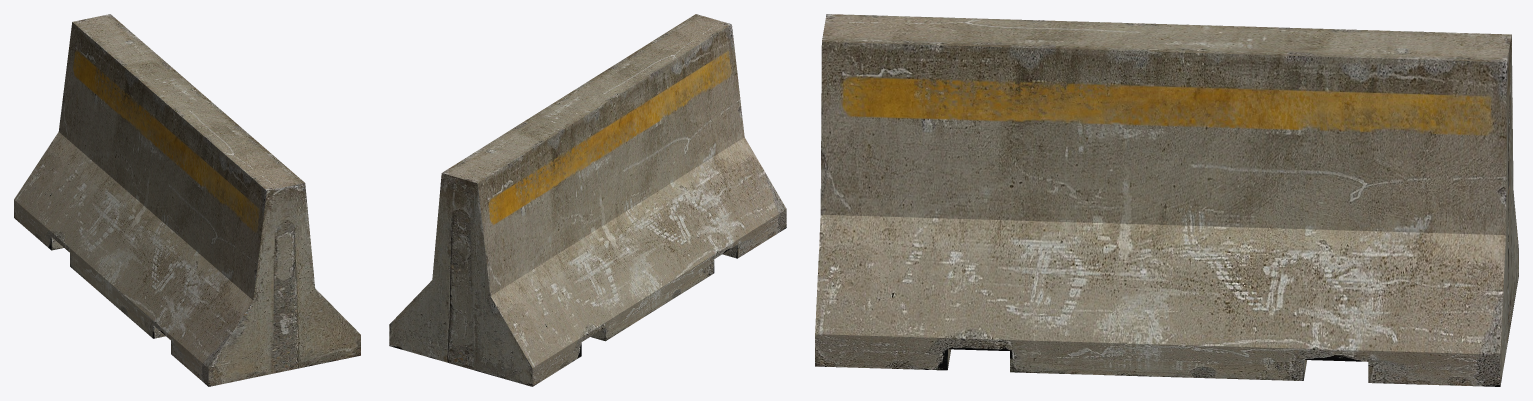
Rendered from Road_block_v1 (5).glb.
3 views of the same model, side by side, from view 1: azimuth 30°, elevation 25°; view 2: azimuth 150°, elevation 25°; view 3: azimuth 270°, elevation 25° (orthographic). The views are drawn at different scales.
Parts seen in each view (by area): view 1: Road_block_v1 (5); view 2: Road_block_v1 (5); view 3: Road_block_v1 (5).
Boxes of the visible parts, bbox=[...] form: Road_block_v1 (5): bbox=[14, 14, 360, 386]; Road_block_v1 (5): bbox=[389, 14, 786, 386]; Road_block_v1 (5): bbox=[815, 14, 1518, 386].
Bounding box in the file's own units: 1.06 × 1.07 × 2.41.
Materials: 1 (1 with a texture image).
